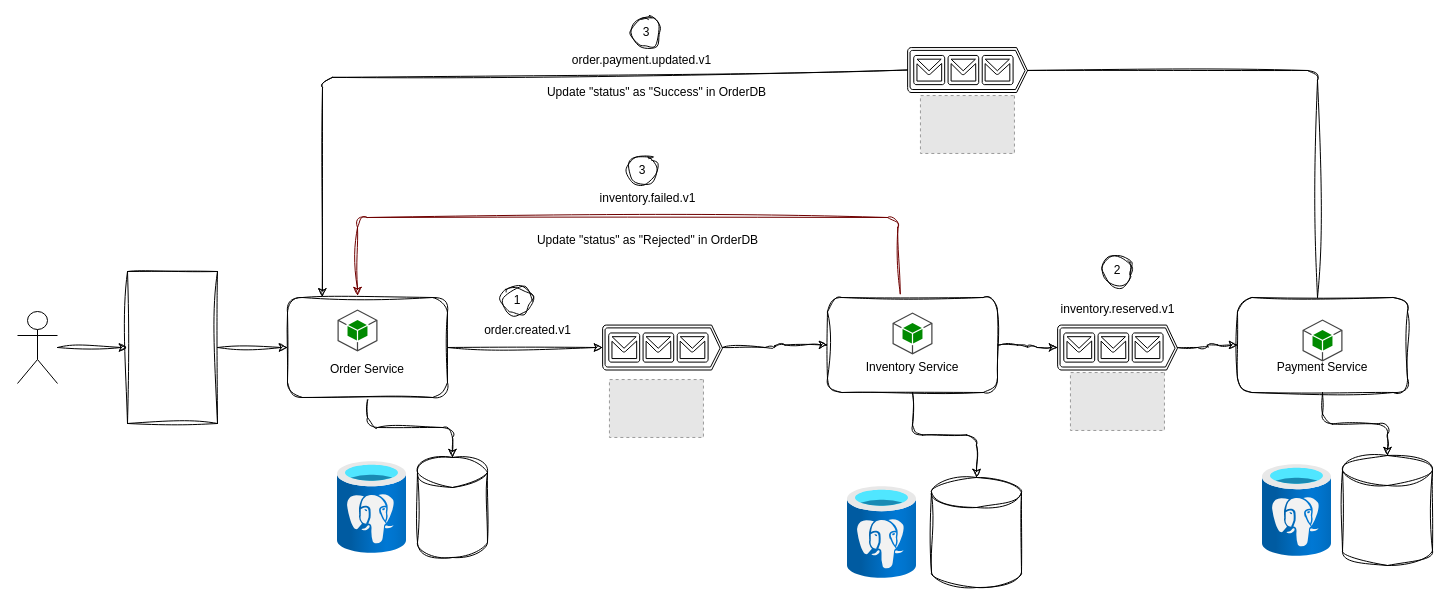
Some shapes in this 1450 by 605 pixel diagram are drawn without their labels. Grey dashed boxes stand in for pictures. The centre of each missing label's shape, as x and y in pixels:
"API GATEWAY" goes at [172,347].
"InventoryDB" goes at [976,532].
"OrderDB" goes at [452,507].
"PaymentDB" goes at [1387,510].
